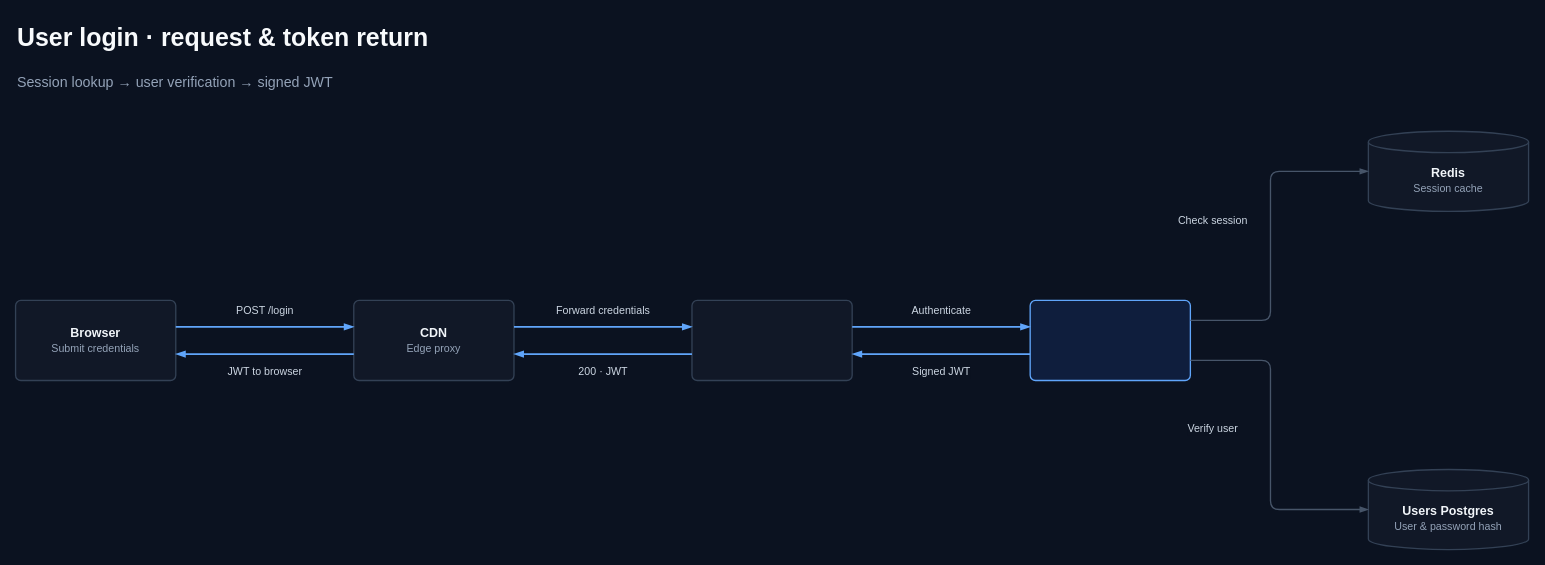
This 1545x565 diagram has some shape labels left out. The shapes that lost their labels are listed below. From the top down, each one's centre as x and y in pixels, then its label:
the point at 771,340: API Gateway Route /login
the point at 1110,340: Auth Service Verify & sign JWT
